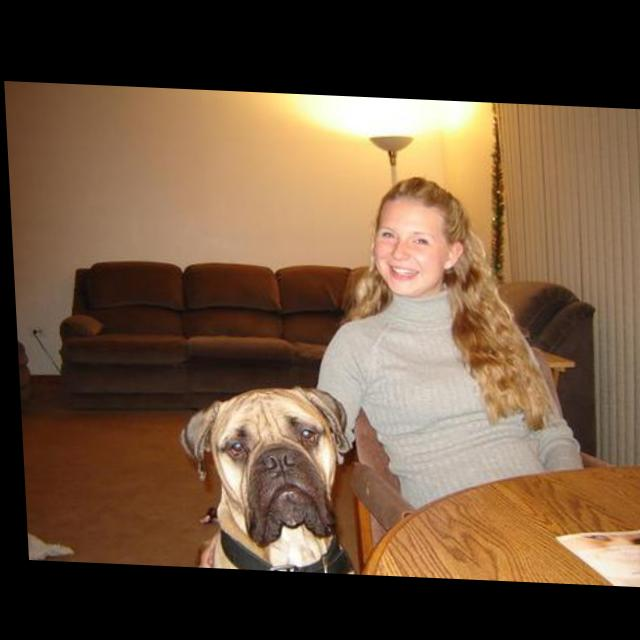bullmastiff: (172, 379, 356, 572)
face: (370, 195, 446, 293)
person: (299, 167, 583, 513)
